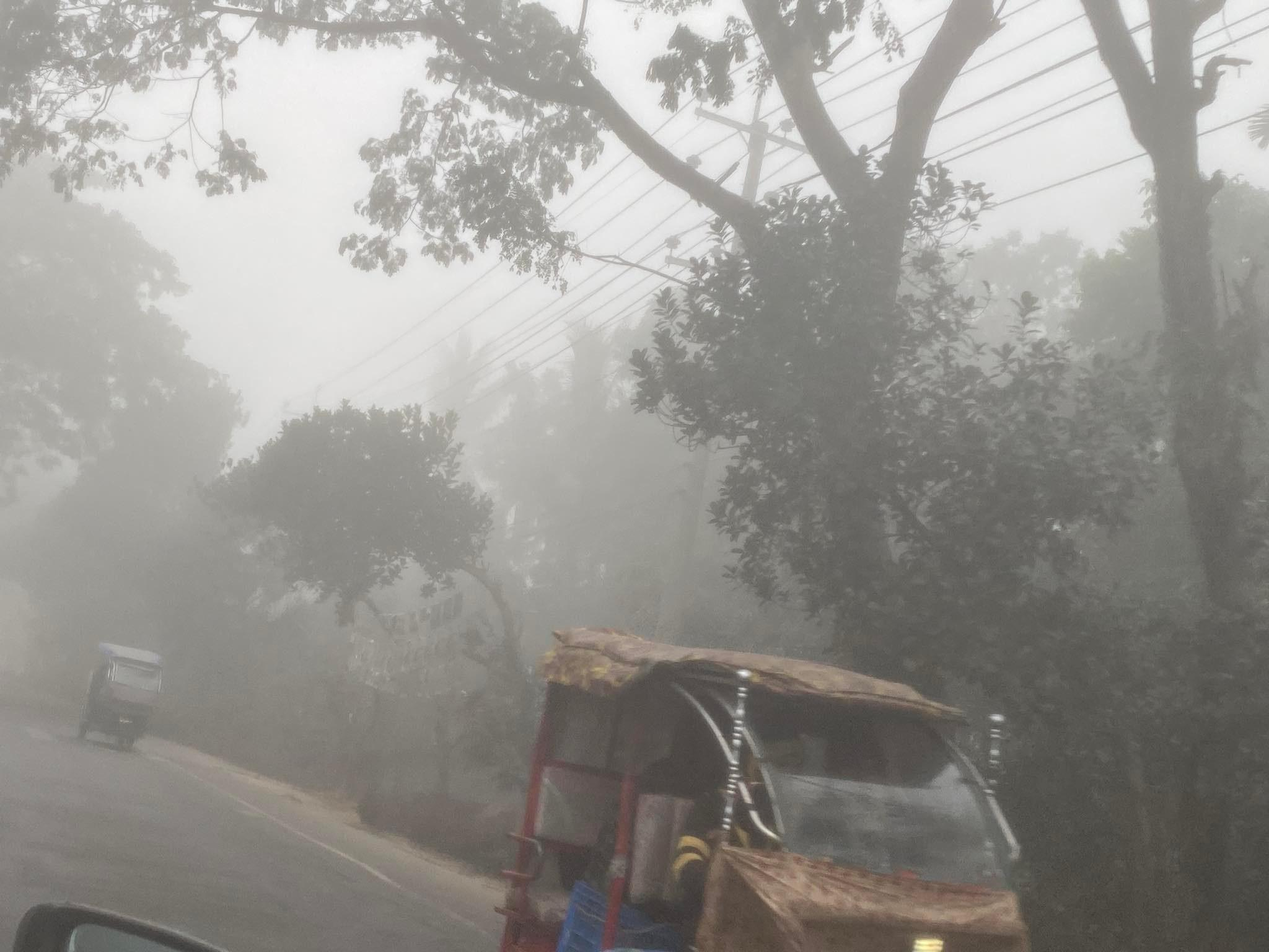Car: (495, 612, 1081, 952), (69, 628, 167, 772)
